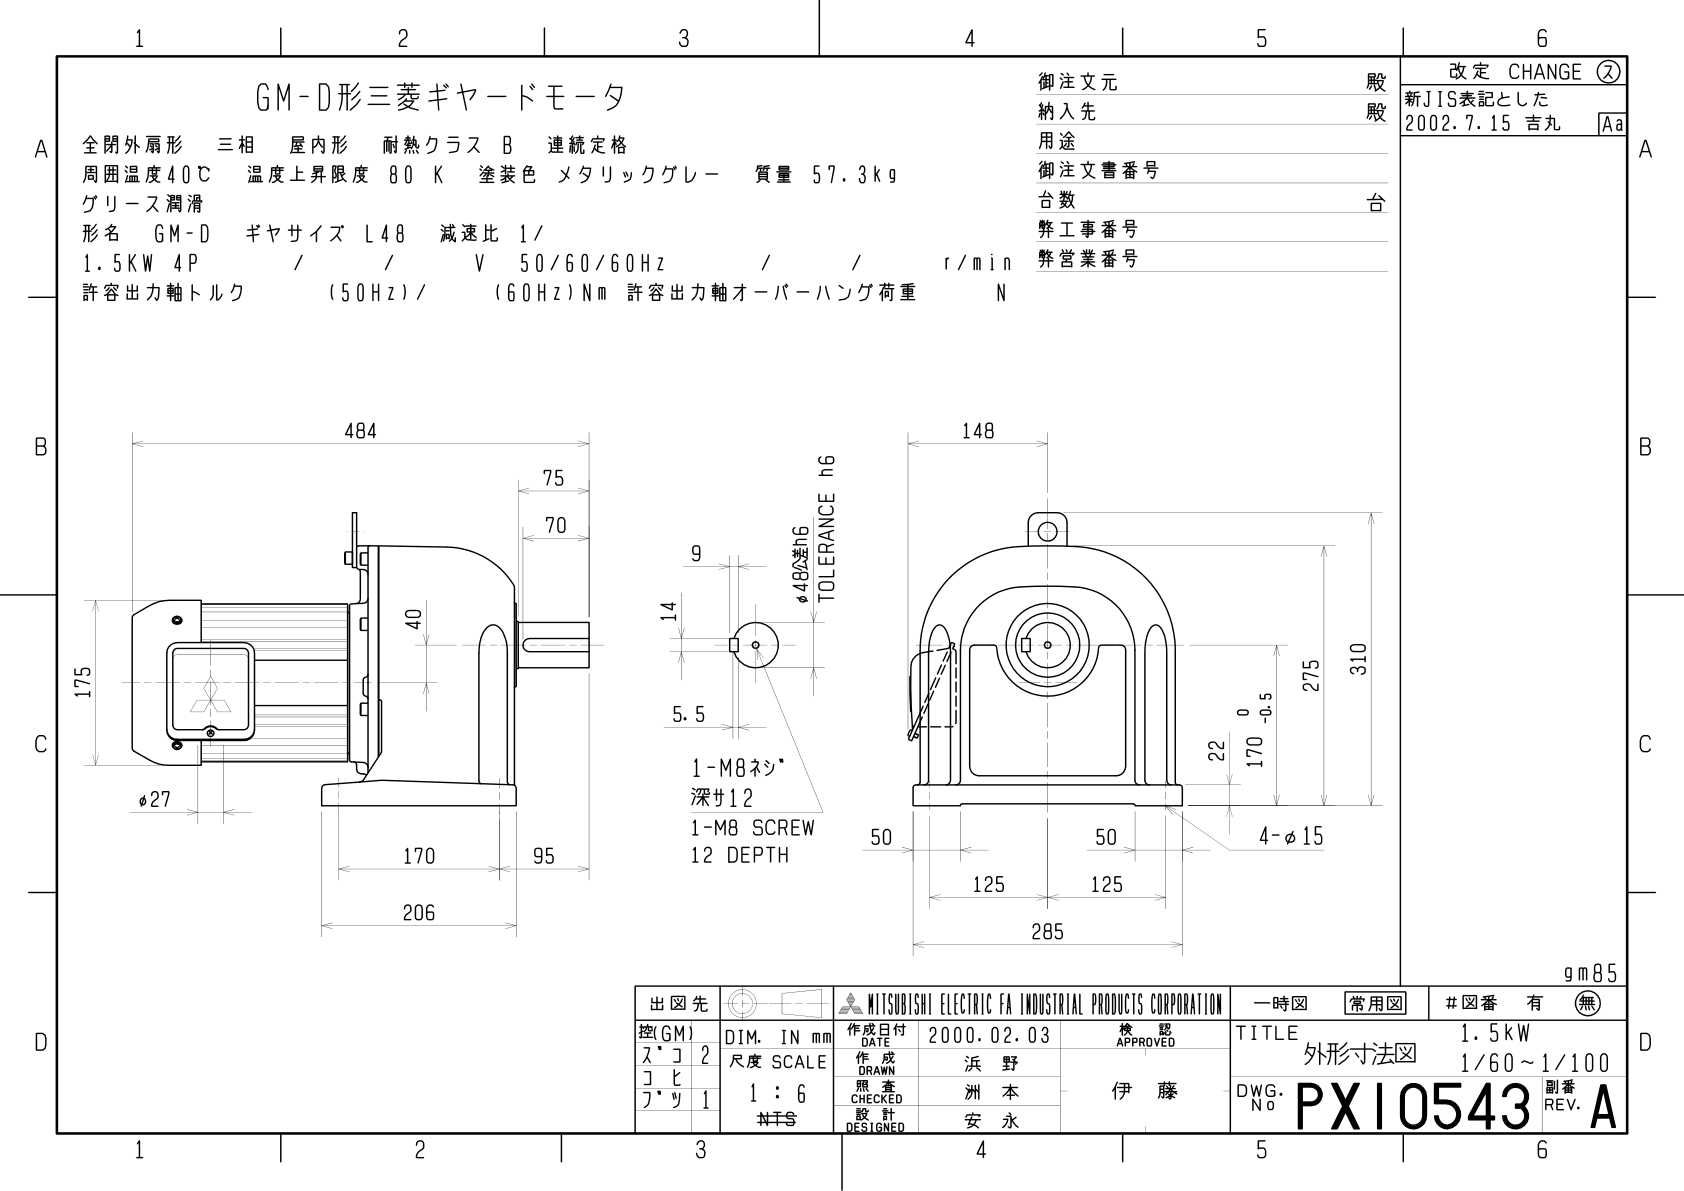GM_D_屋内＿三相_脚: (61, 363, 1383, 963)
